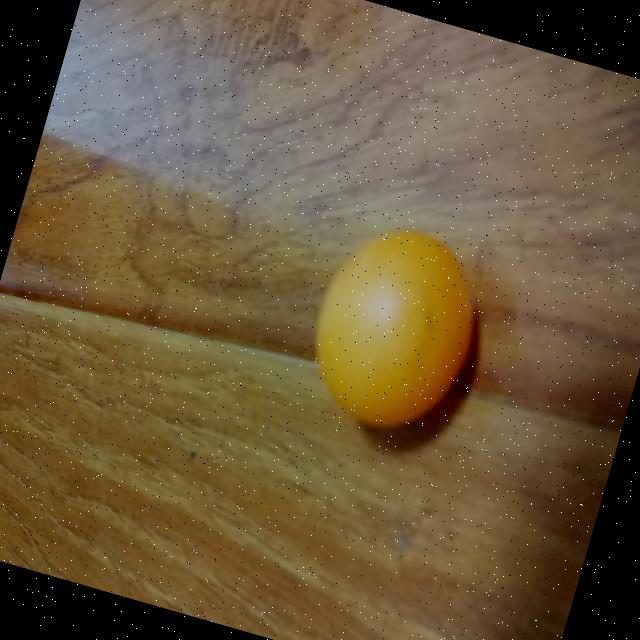ping-pong-ball: (294, 212, 494, 446)
